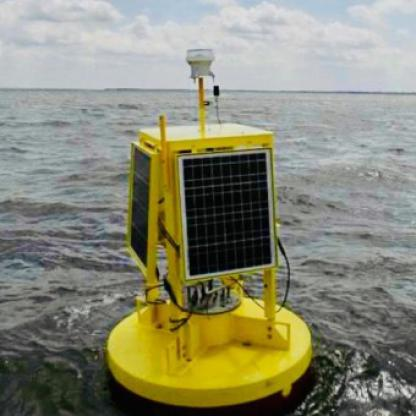buoy: (100, 39, 320, 410)
